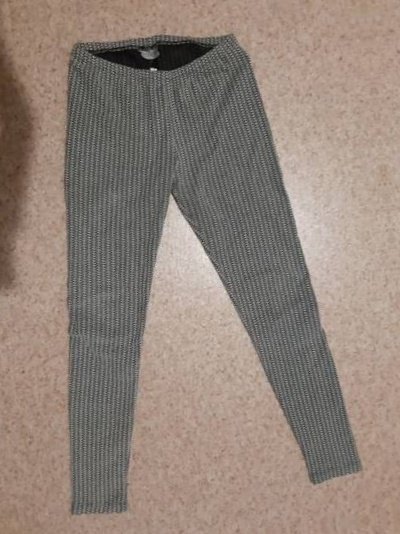Pants: (4, 15, 360, 534)
